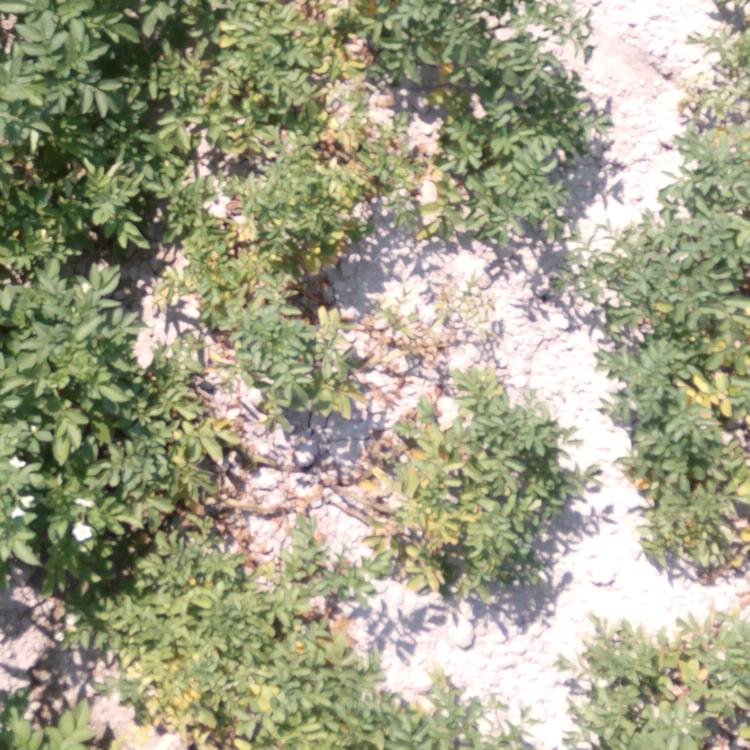healthy: (1, 1, 143, 248), (1, 249, 126, 521), (467, 4, 589, 117), (478, 120, 576, 229), (1, 677, 104, 749), (1, 527, 106, 594)
stressed: (366, 381, 566, 605), (117, 532, 306, 750), (142, 128, 472, 247), (601, 350, 745, 578), (145, 1, 397, 128), (572, 613, 745, 750), (136, 337, 262, 525), (570, 232, 748, 342), (149, 249, 348, 329), (682, 1, 747, 229), (304, 539, 357, 750), (365, 677, 514, 750), (263, 337, 367, 422), (404, 13, 456, 123)
